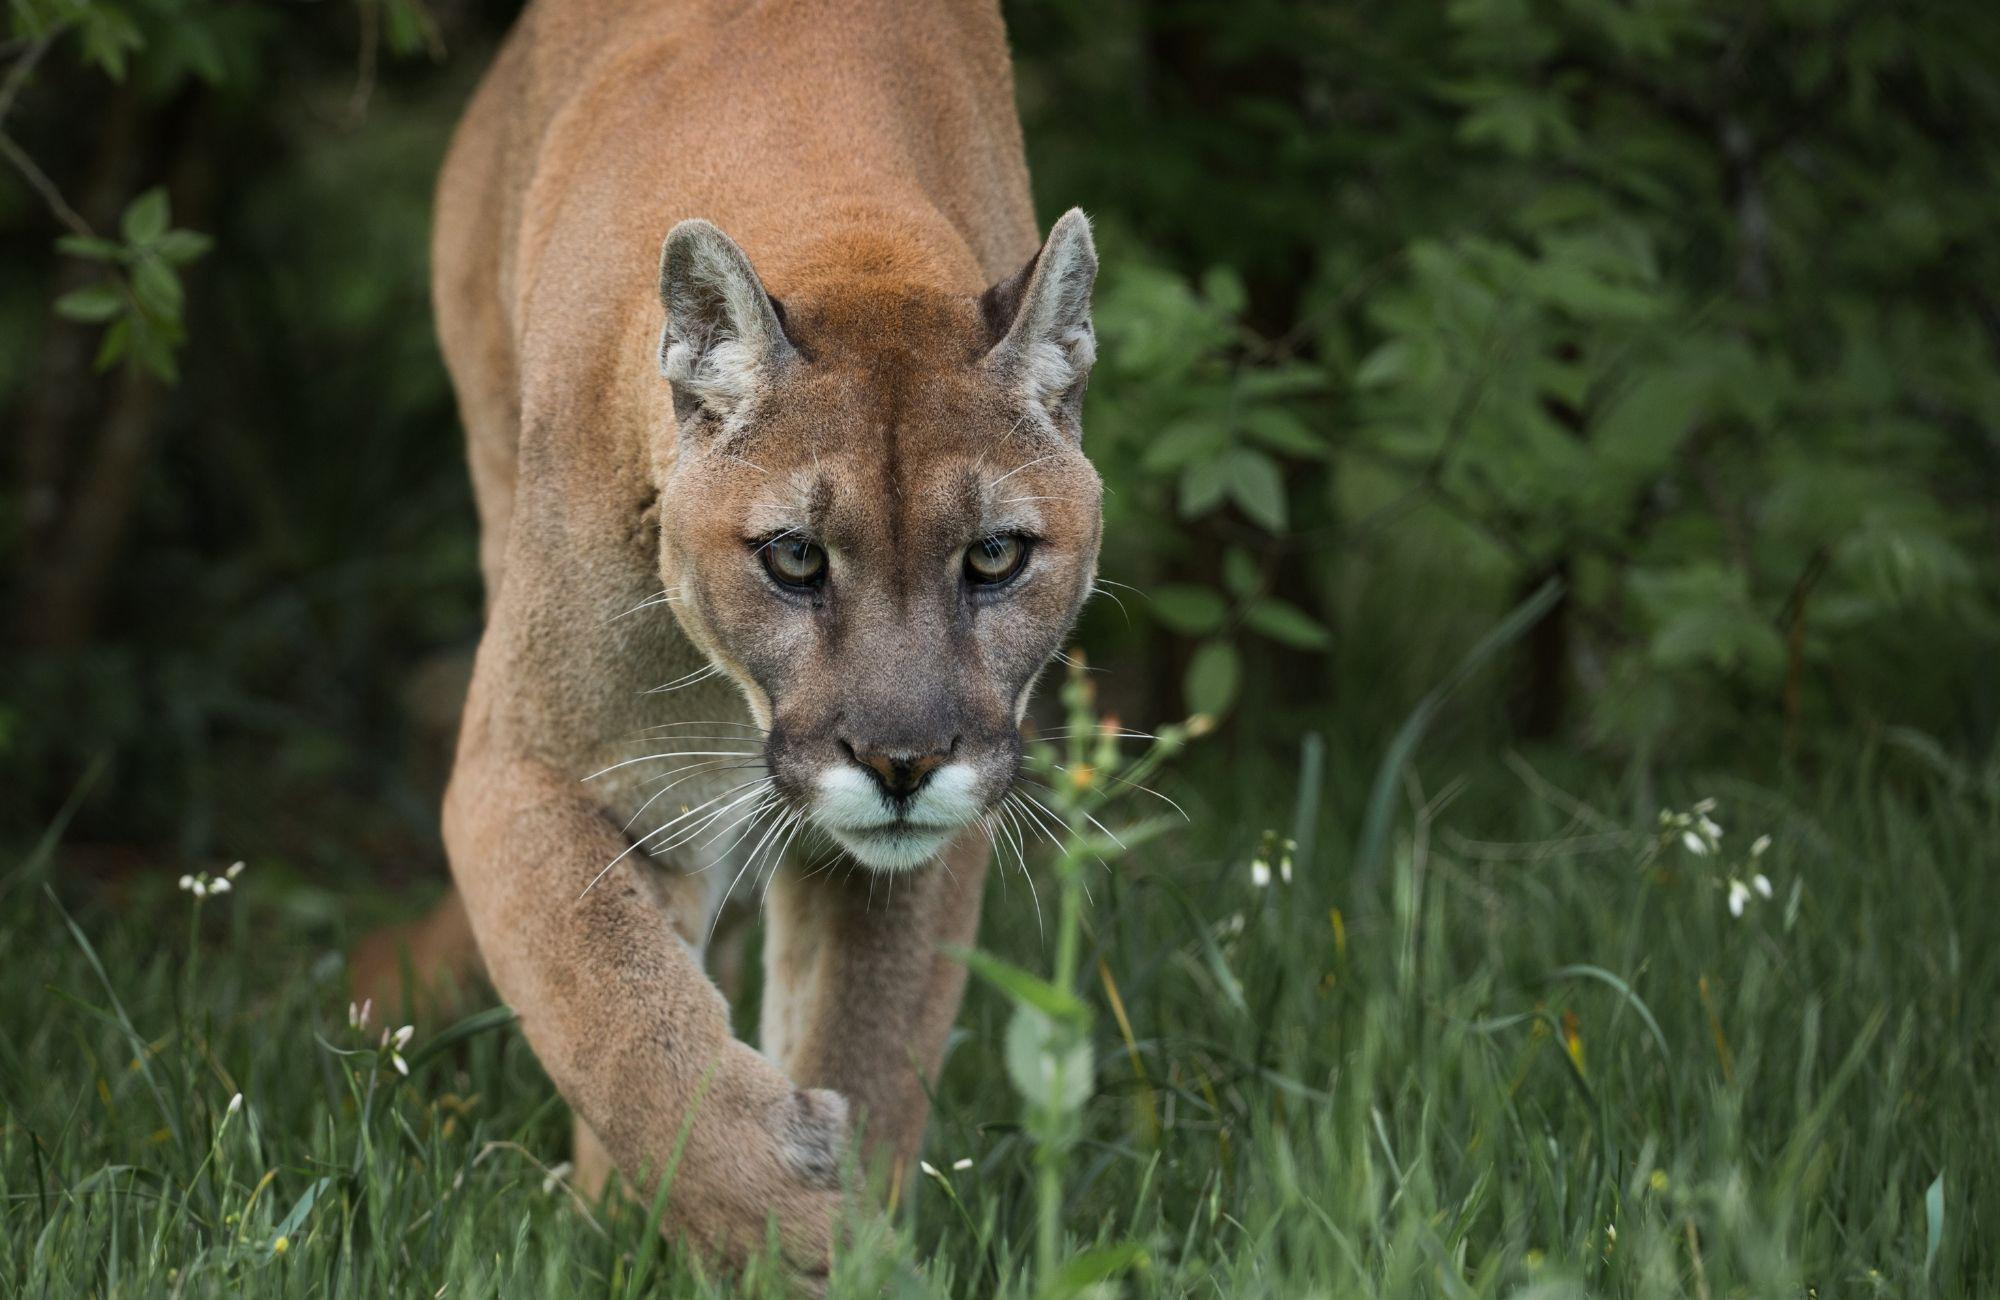OncaParda: (375, 12, 1134, 1274)
